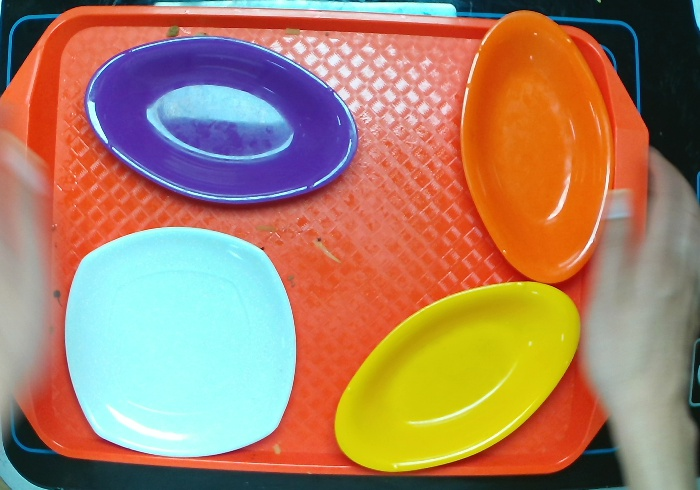RJxy-Fen_Hong_Tuo_Yuan: (82, 36, 358, 210)
RJxy-Huang_Se_Tuo_Yuan: (328, 280, 583, 490)
RJxy-Ju_Huang_Tuo_Yuan: (457, 10, 613, 291)
RJxy-Si_Fang_Die: (59, 223, 302, 459)
